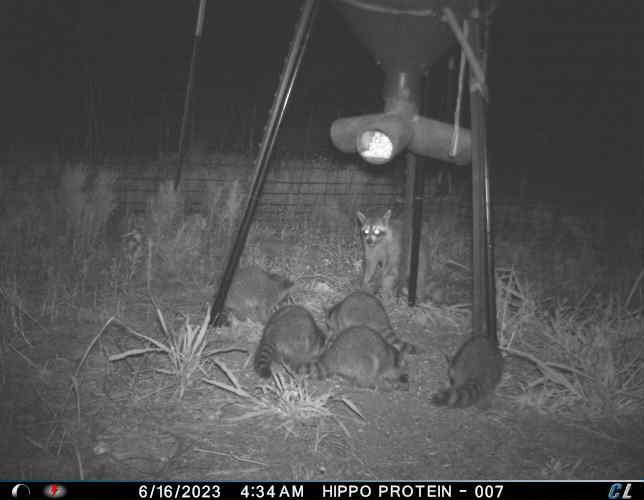Raccoon: (353, 204, 456, 303), (313, 326, 413, 395), (324, 291, 422, 355), (429, 332, 504, 413), (252, 303, 329, 380), (220, 264, 294, 324)
